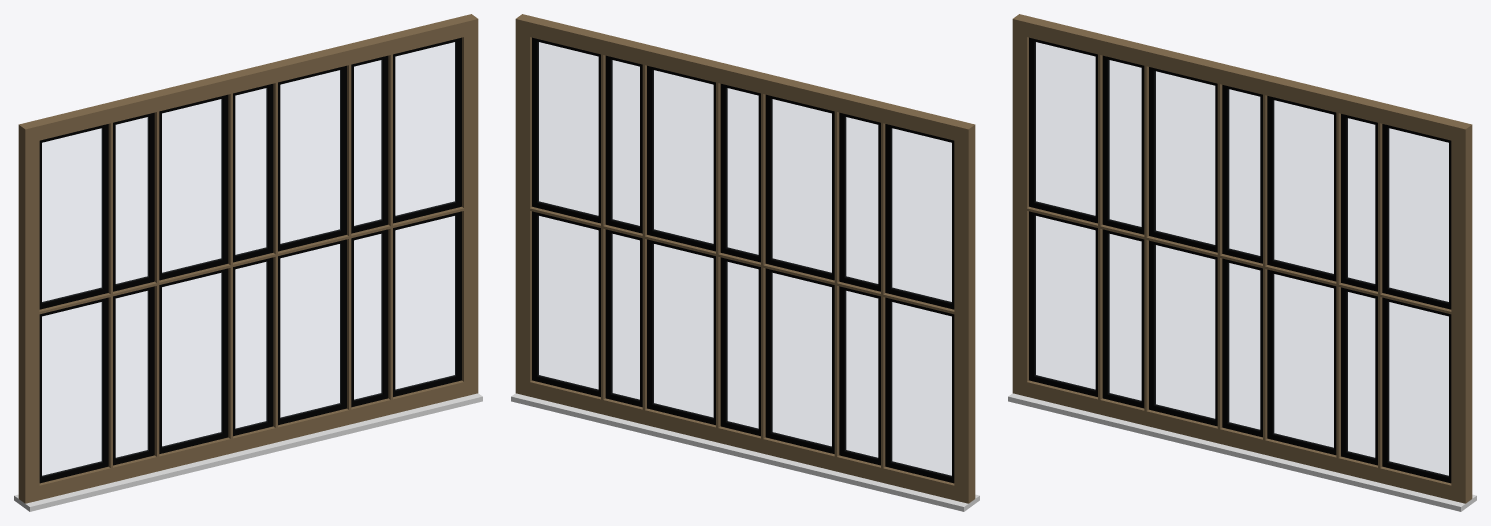
Rendered from windowpanel.fbx.
3 renders of one model, left to right at view 1: azimuth 30°, elevation 25°; view 2: azimuth 150°, elevation 25°; view 3: azimuth 330°, elevation 25°, orthographic.
Visible parts, largest first — view 1: Window; view 2: Window; view 3: Window.
Part boxes in pixels (left/top/right/bottom): Window: left=14, top=14, right=482, bottom=511; Window: left=511, top=14, right=979, bottom=511; Window: left=1008, top=14, right=1476, bottom=511.
Bounding box in the file's own units: 500 × 400 × 30.
